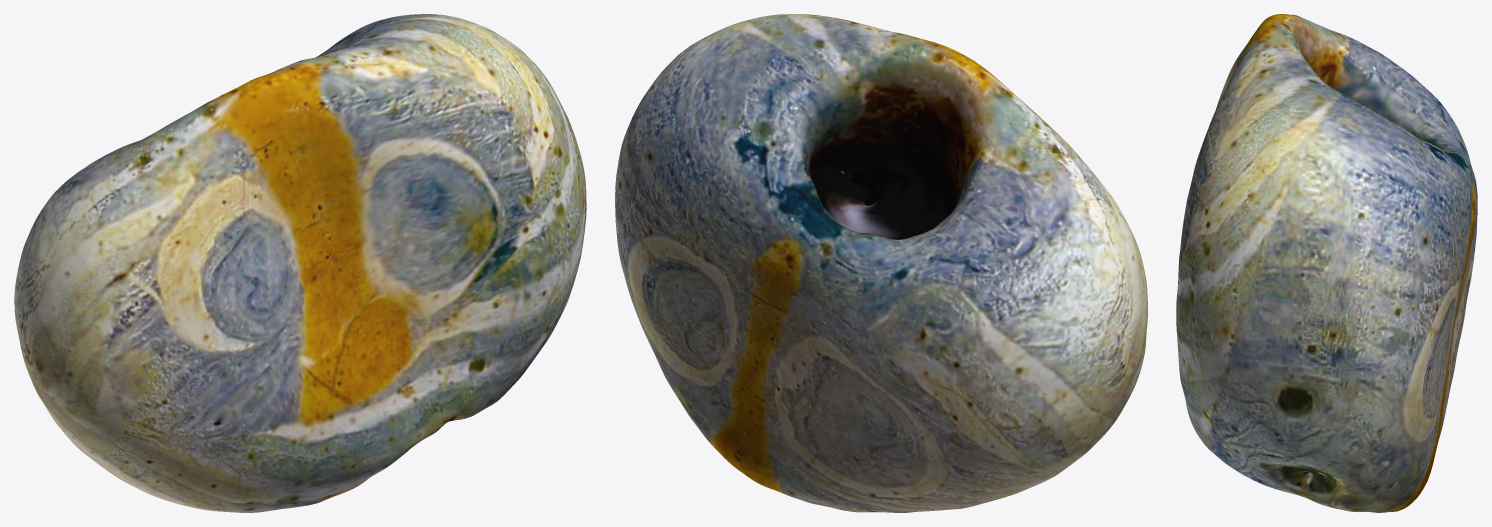
Rendered from bead-two.glb.
3 renders of one model, left to right at view 1: azimuth 30°, elevation 25°; view 2: azimuth 150°, elevation 25°; view 3: azimuth 270°, elevation 25°, orthographic. The views are drawn at different scales.
Visible parts, largest first — view 1: Object_2, Object_3; view 2: Object_2, Object_3; view 3: Object_2, Object_3.
Boxes of the visible parts, bbox=[...] form: Object_2: bbox=[16, 14, 586, 512]; Object_3: bbox=[14, 14, 585, 512]; Object_2: bbox=[615, 14, 1146, 512]; Object_3: bbox=[615, 14, 1147, 512]; Object_2: bbox=[1176, 14, 1477, 512]; Object_3: bbox=[1176, 15, 1477, 511].
Bounding box in the file's own units: 0.0402 × 0.0334 × 0.0204.
1 material, 1 textured.
